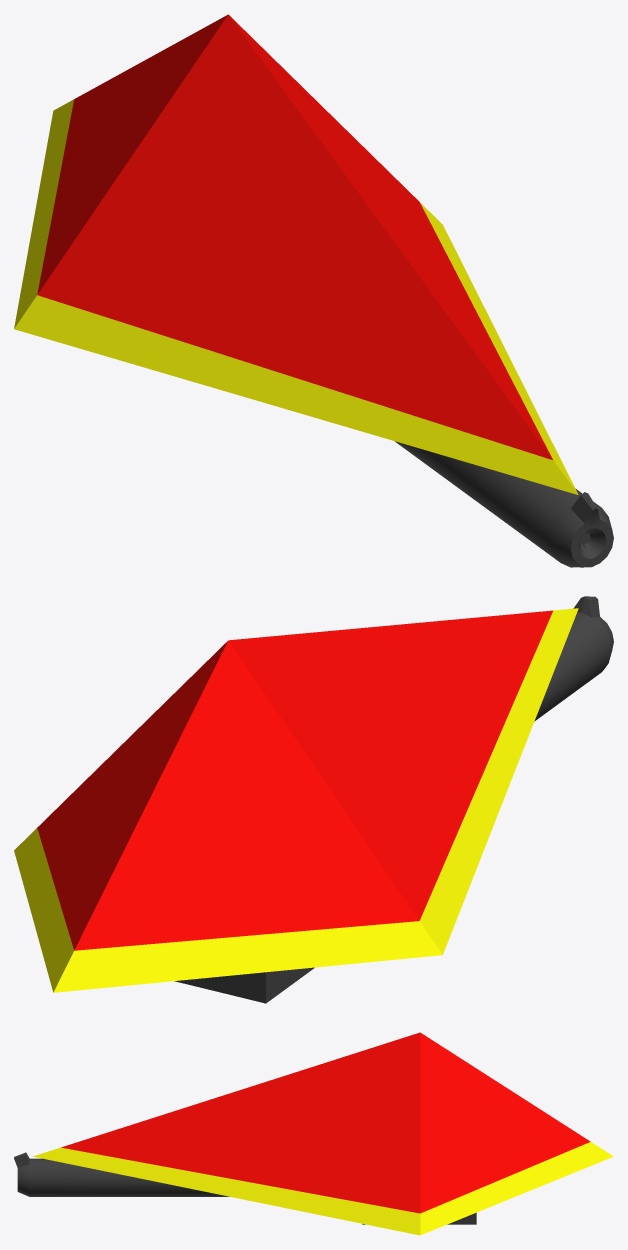
File: Orbiter.fbx
3 renders of one model, top to bottom at view 1: azimuth 30°, elevation 25°; view 2: azimuth 150°, elevation 25°; view 3: azimuth 270°, elevation 25°, orthographic. The views are drawn at different scales.
Parts seen in each view (by area): view 1: OrbiterRanged; view 2: OrbiterRanged; view 3: OrbiterRanged.
Part boxes in pixels (bbox=[...]): OrbiterRanged: bbox=[14, 14, 613, 567]; OrbiterRanged: bbox=[14, 596, 613, 1003]; OrbiterRanged: bbox=[14, 1032, 613, 1235].
Bounding box in the file's own units: 108 × 73.18 × 236.
